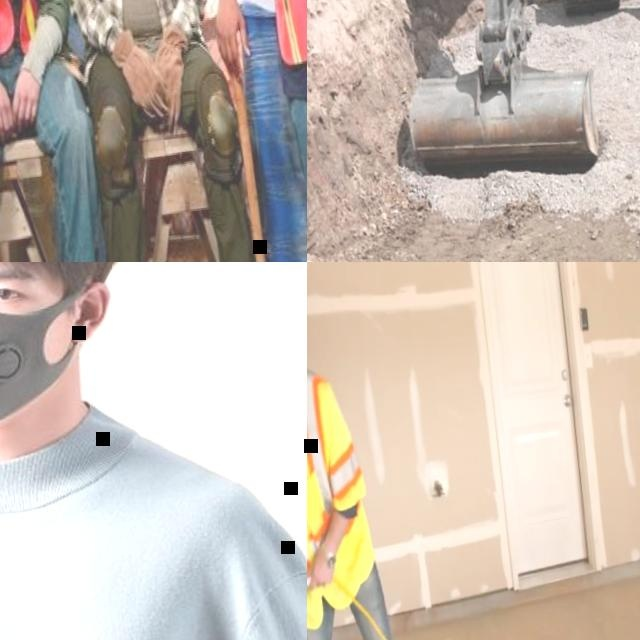Mask: (0, 274, 95, 437)
NO-Safety Vest: (0, 428, 235, 640)
Person: (0, 262, 307, 640), (31, 0, 264, 262), (307, 305, 452, 640), (167, 0, 307, 262), (0, 0, 110, 262), (243, 262, 307, 640)
Safety Vest: (307, 358, 382, 638)
machinery: (355, 0, 640, 189)
